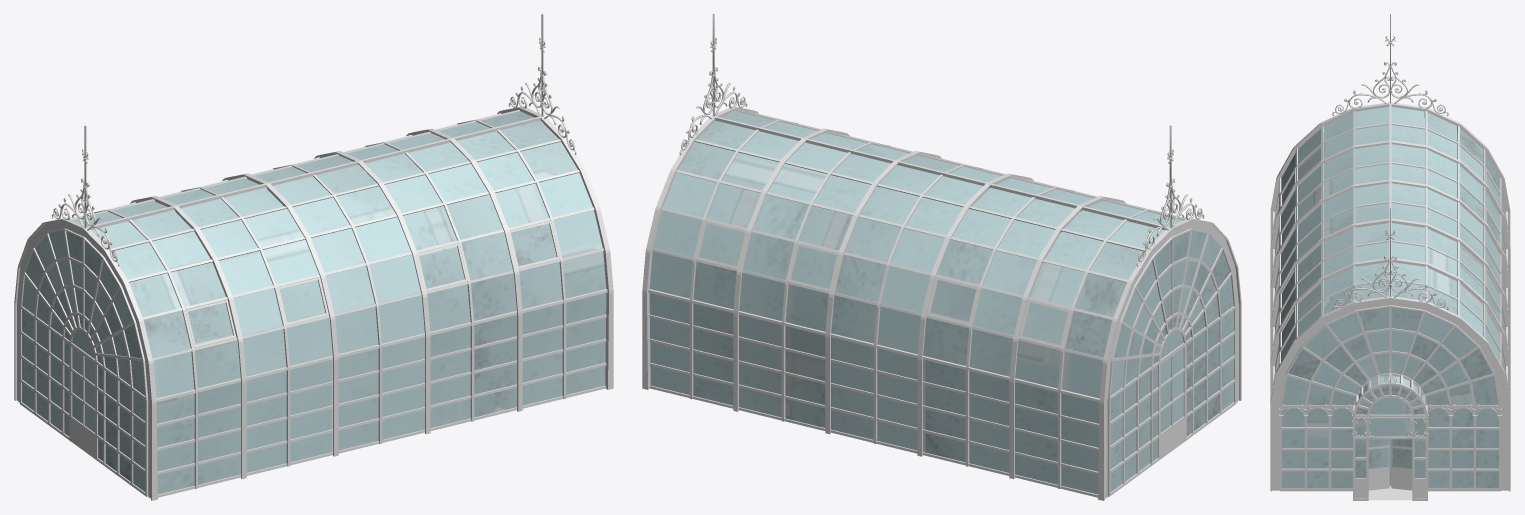
File: greenhouse_outside_skech2_flipped.fbx
3 renders of one model, left to right at view 1: azimuth 30°, elevation 25°; view 2: azimuth 150°, elevation 25°; view 3: azimuth 270°, elevation 25°, orthographic. The views are drawn at different scales.
Parts seen in each view (by area): view 1: Cylinder; view 2: Cylinder; view 3: Cylinder.
Part boxes in pixels (x1,y1,x2,y2): Cylinder: (14, 14, 613, 500); Cylinder: (642, 14, 1241, 500); Cylinder: (1270, 14, 1510, 500).
Size of the model in its own units: 2107 by 1351 by 1040.
Materials: 1 (1 with a texture image).
